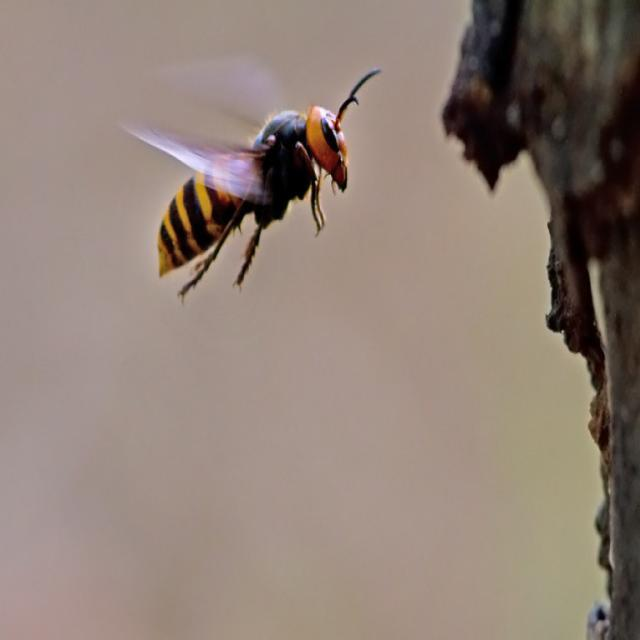Wasp: (95, 42, 381, 300)
